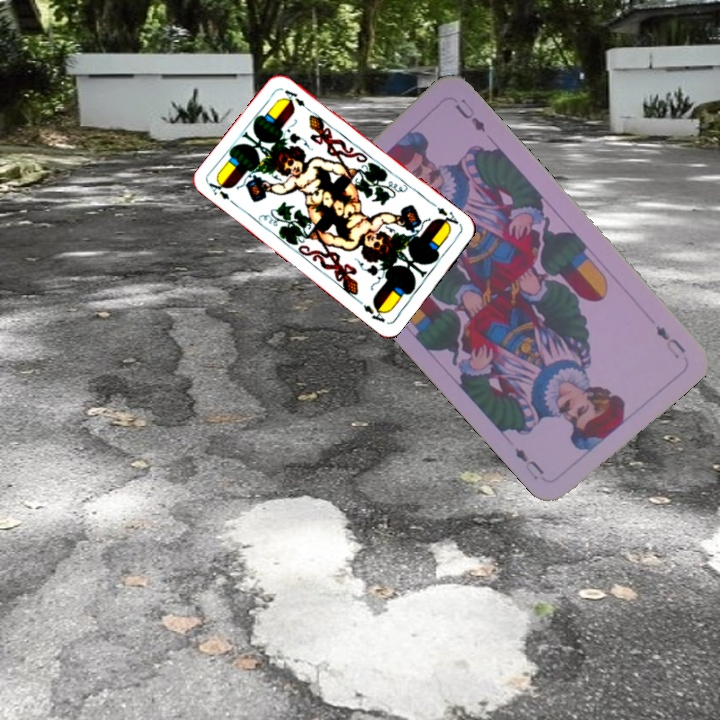EA: (205, 176, 239, 209), (433, 203, 464, 231)
EU: (651, 321, 688, 362)
